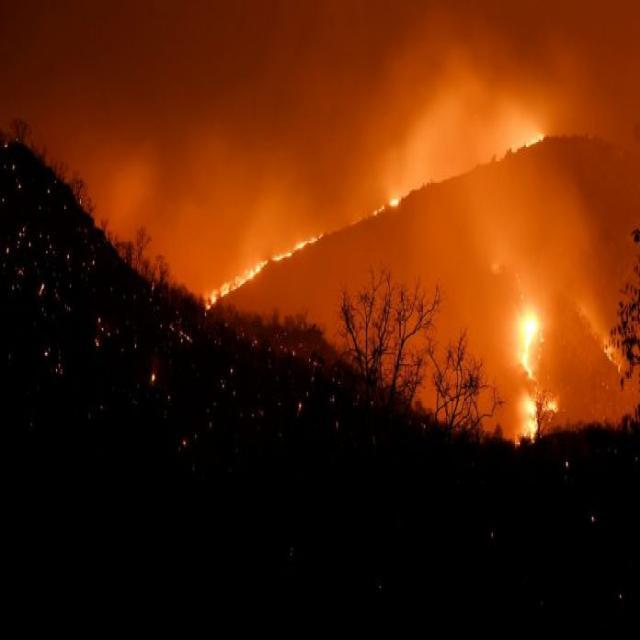Fire: (512, 318, 546, 441)
Smoke: (1, 0, 640, 441)
